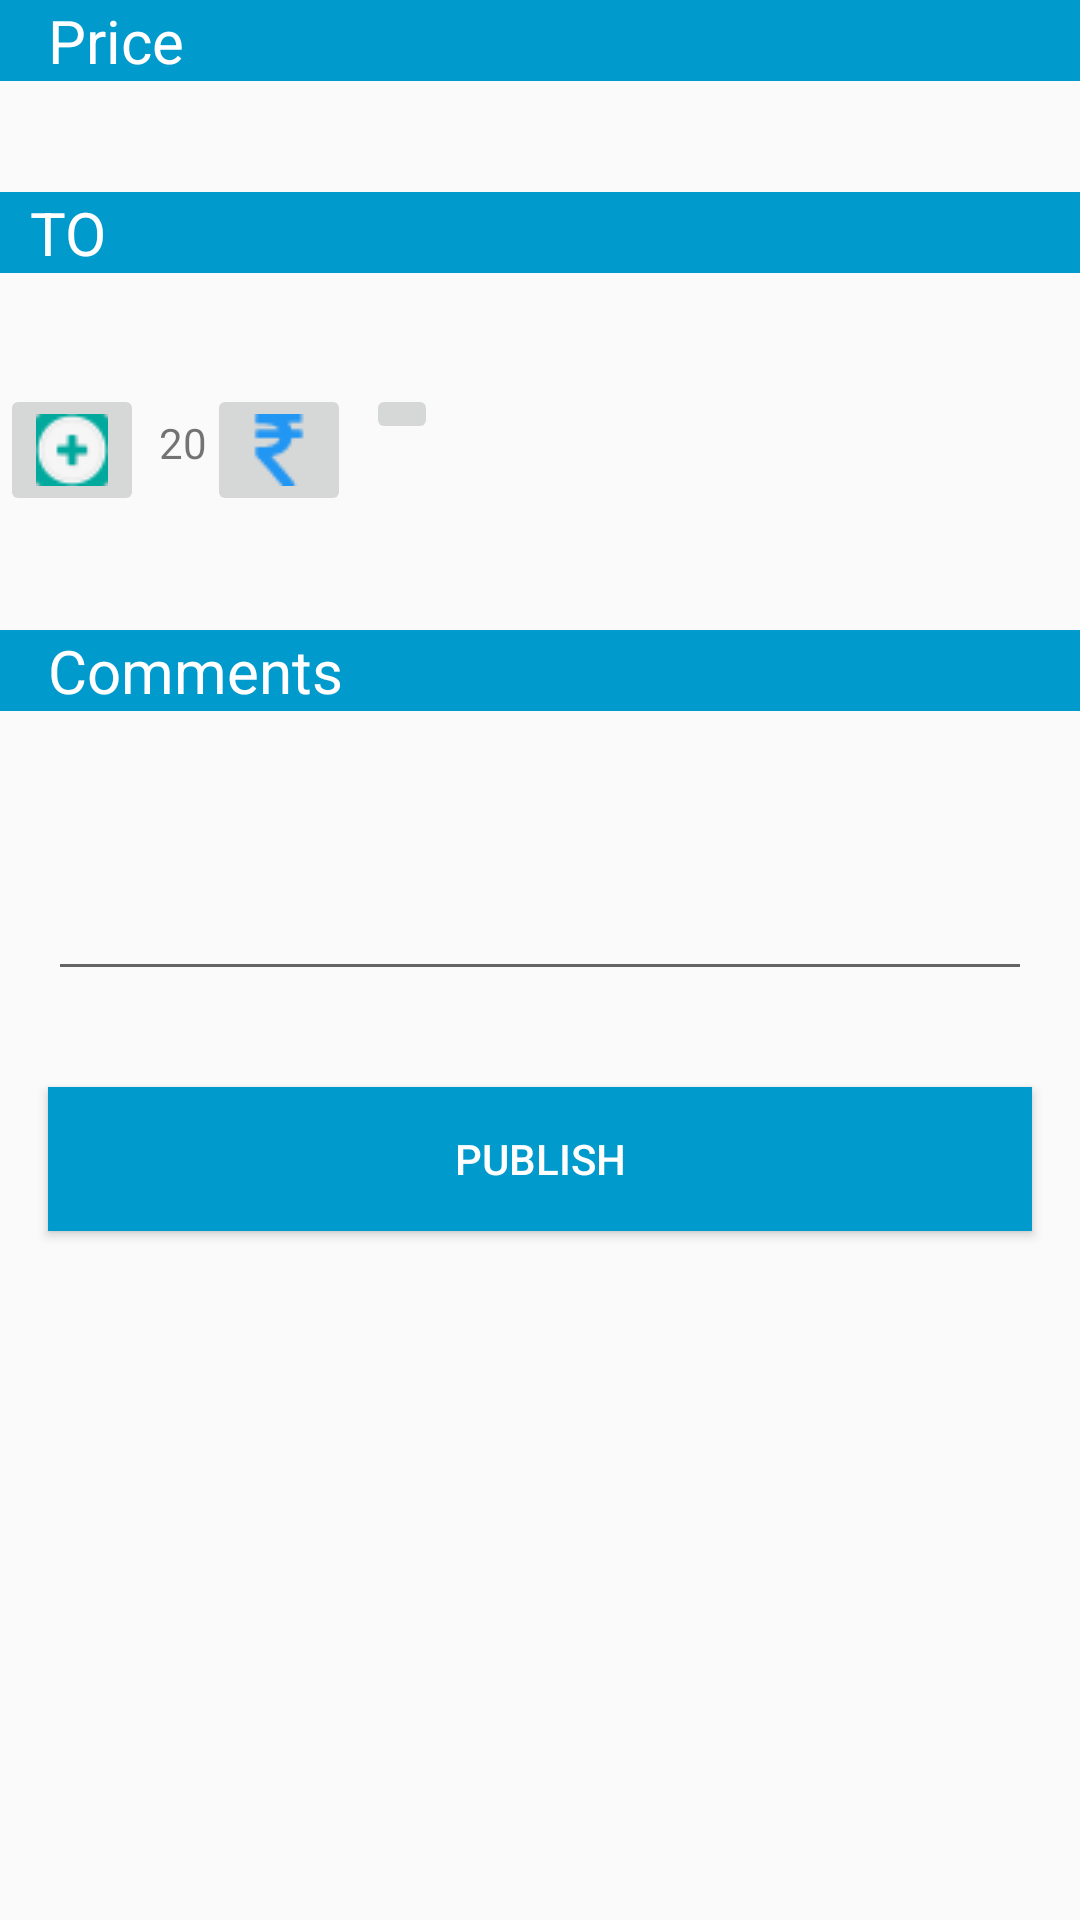

Screen size 1080x1920. Icon name, then its box in pixels as (x1, y1, x2, y2):
pooler plus: (12, 402, 132, 498)
pooler rupee: (219, 402, 339, 498)
